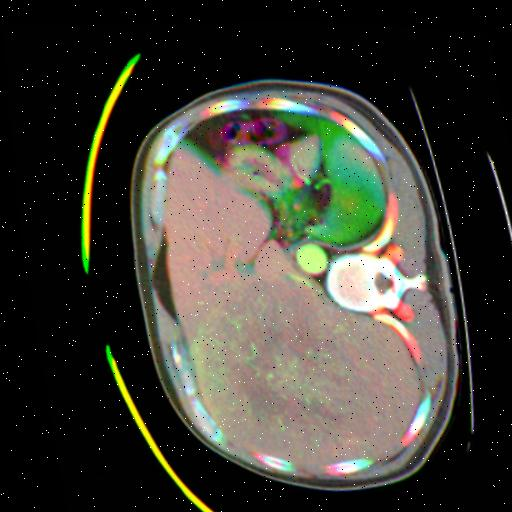Tumor: (234, 340, 279, 417)
